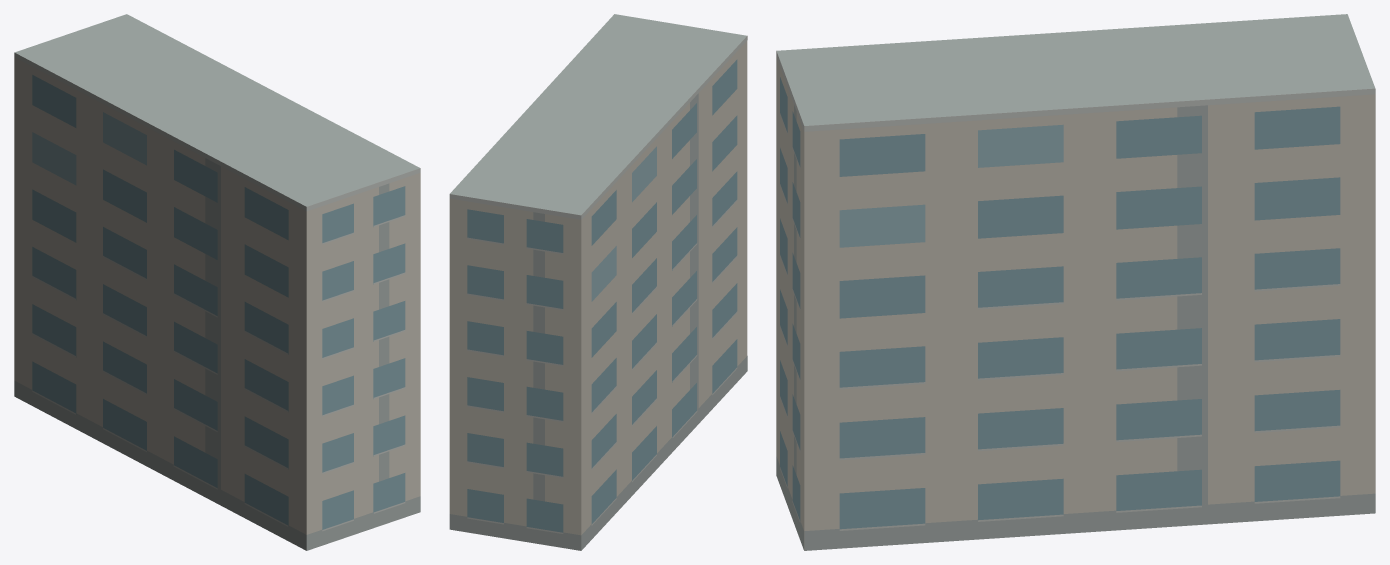
Rendered from survey-upis-32579645.glb.
The picture shows the model from 3 angles, left to right: view 1: azimuth 30°, elevation 25°; view 2: azimuth 150°, elevation 25°; view 3: azimuth 270°, elevation 25°; orthographic projection. The views are drawn at different scales.
Visible parts, largest first — view 1: survey-upis-32579645.tmp; view 2: survey-upis-32579645.tmp; view 3: survey-upis-32579645.tmp.
Part boxes in pixels (x1,y1,x2,y2): survey-upis-32579645.tmp: (14,14,420,550); survey-upis-32579645.tmp: (449,14,747,550); survey-upis-32579645.tmp: (776,14,1375,550).
Size of the model in its own units: 10.25 by 18.1 by 23.14.
